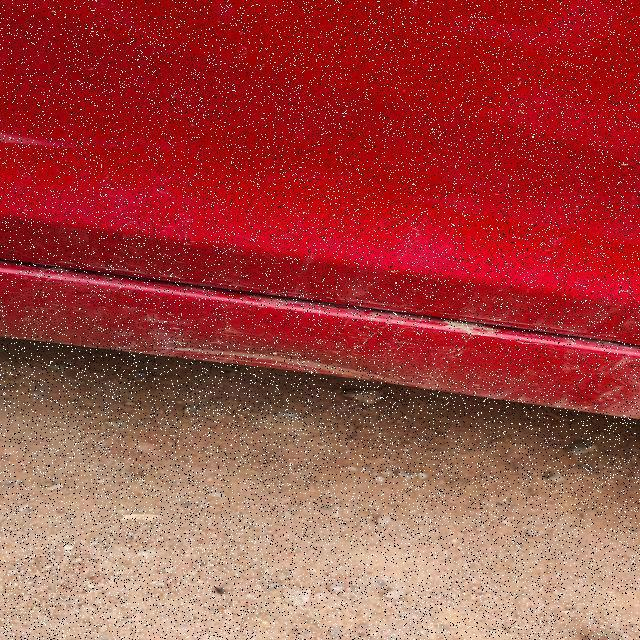car damage: (5, 264, 639, 430)
